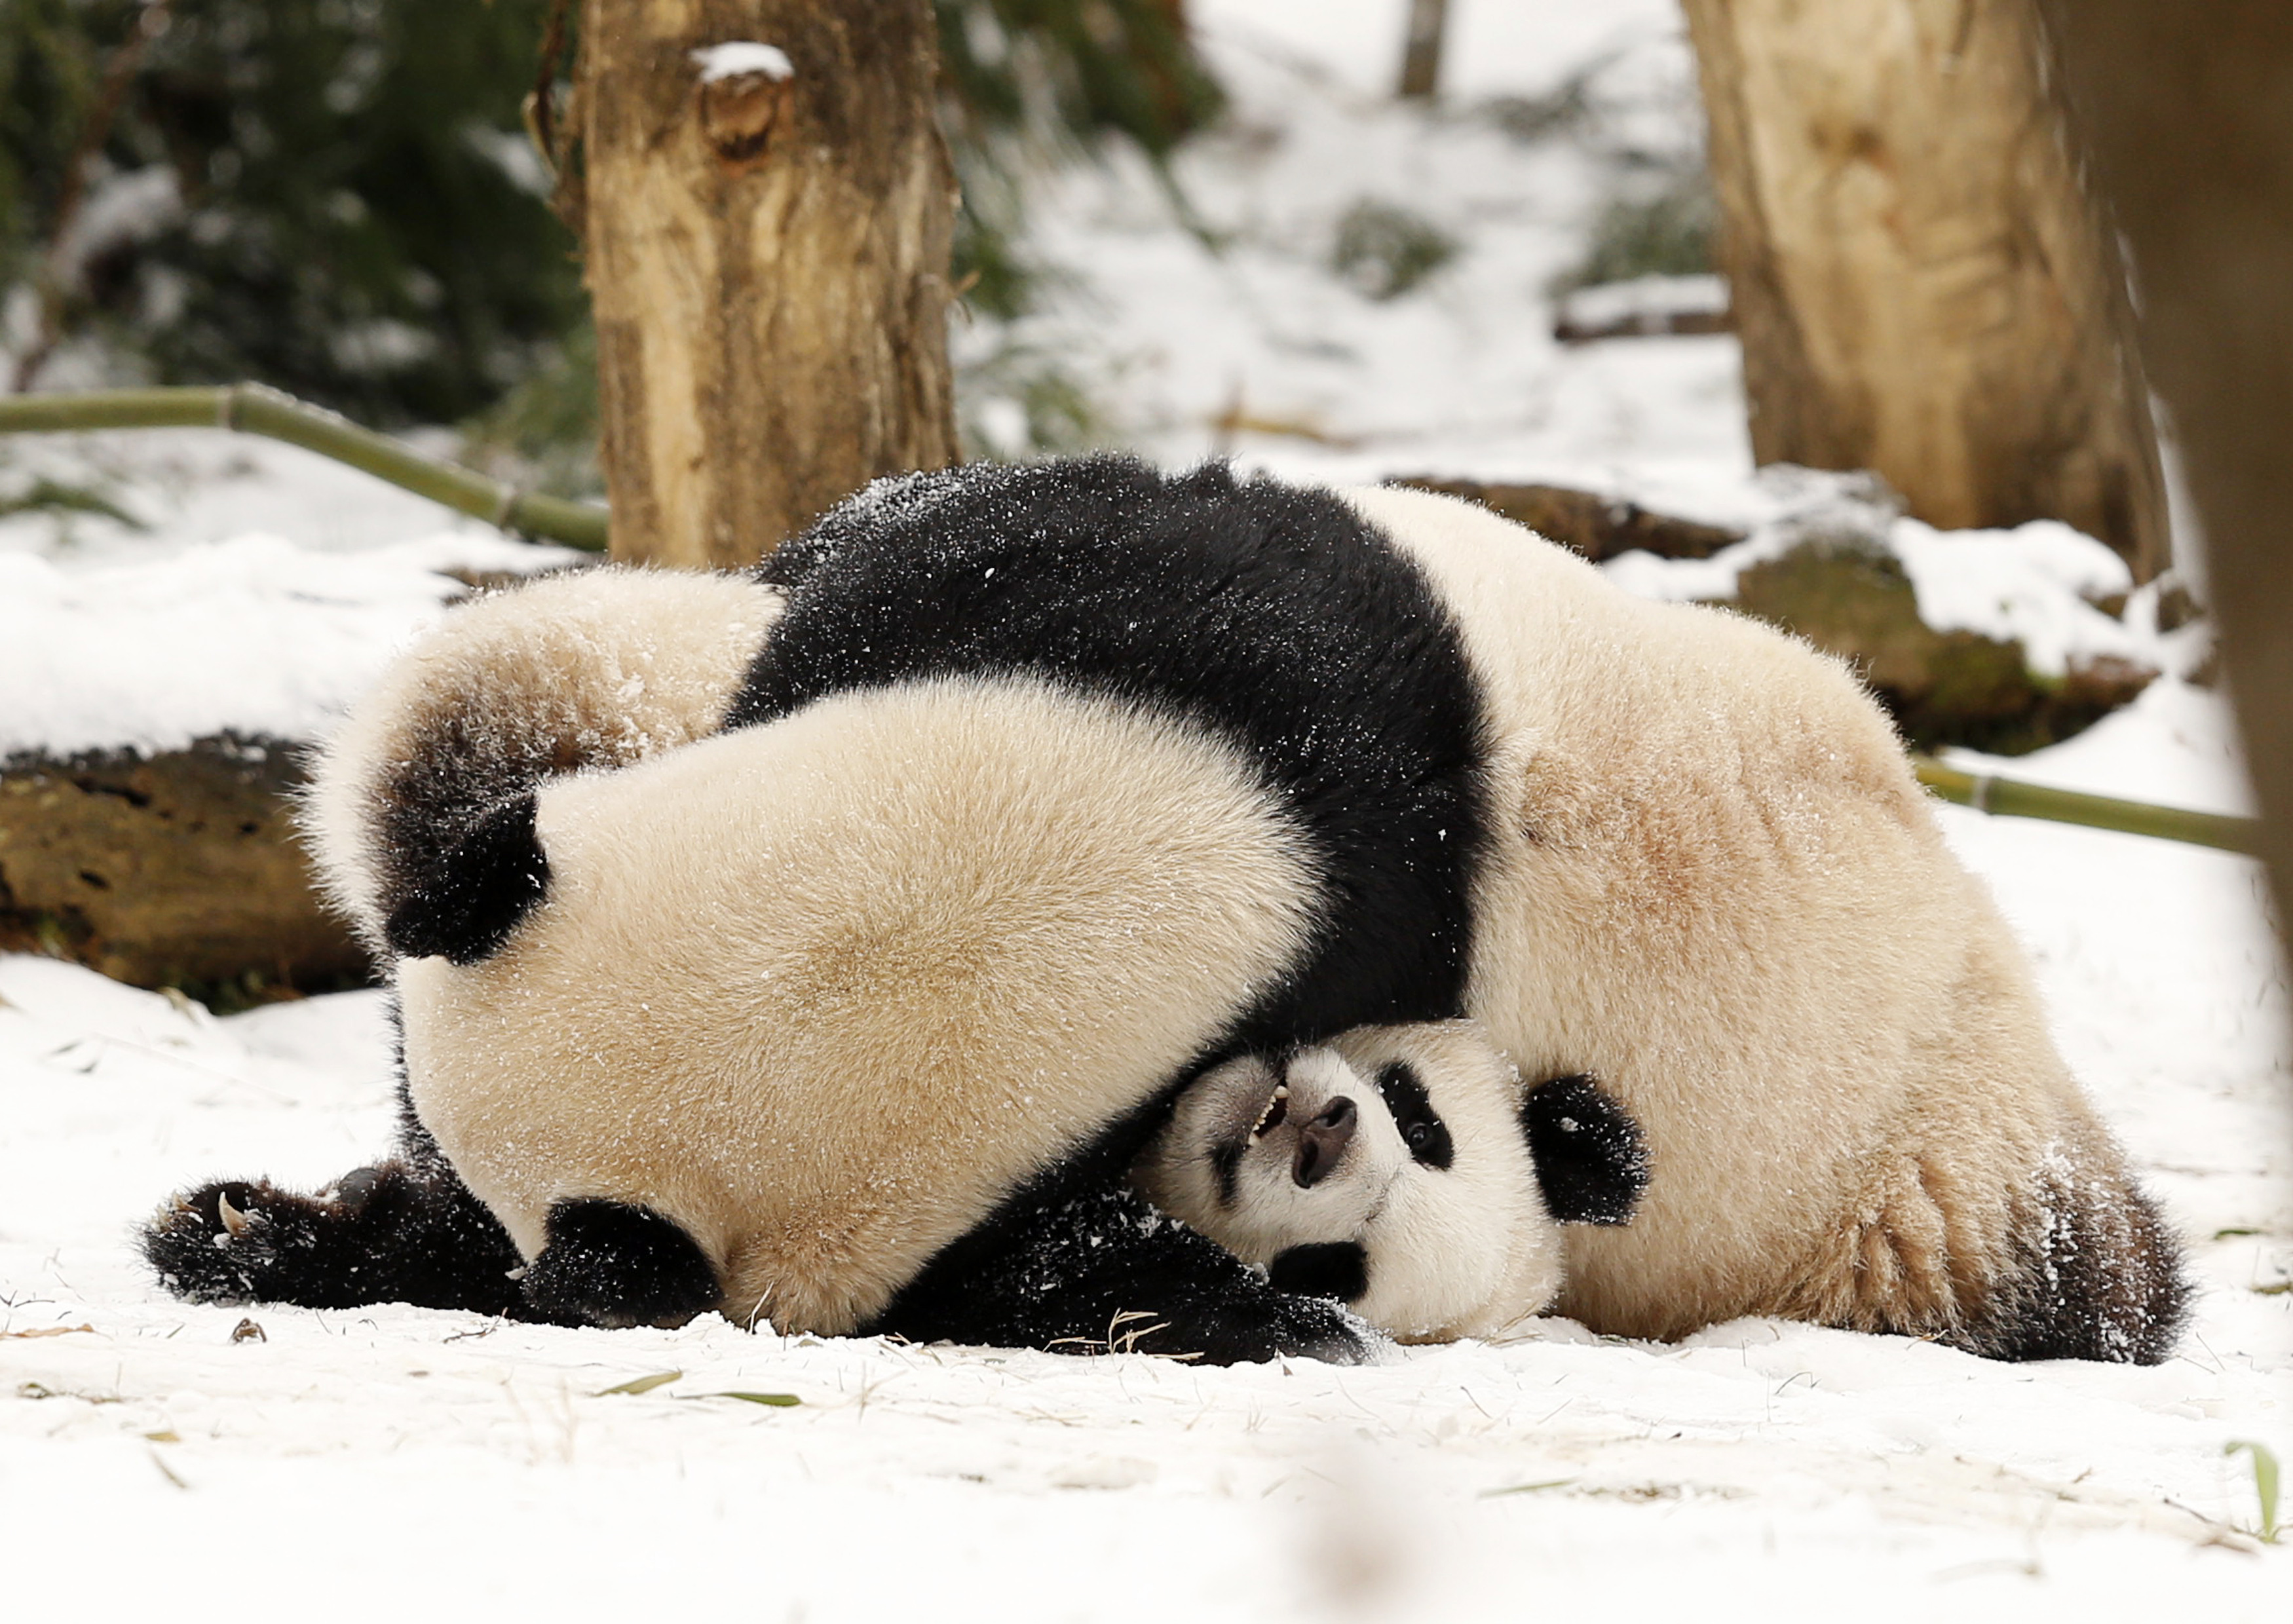panda: (306, 404, 2203, 1332), (264, 731, 1690, 1443)
